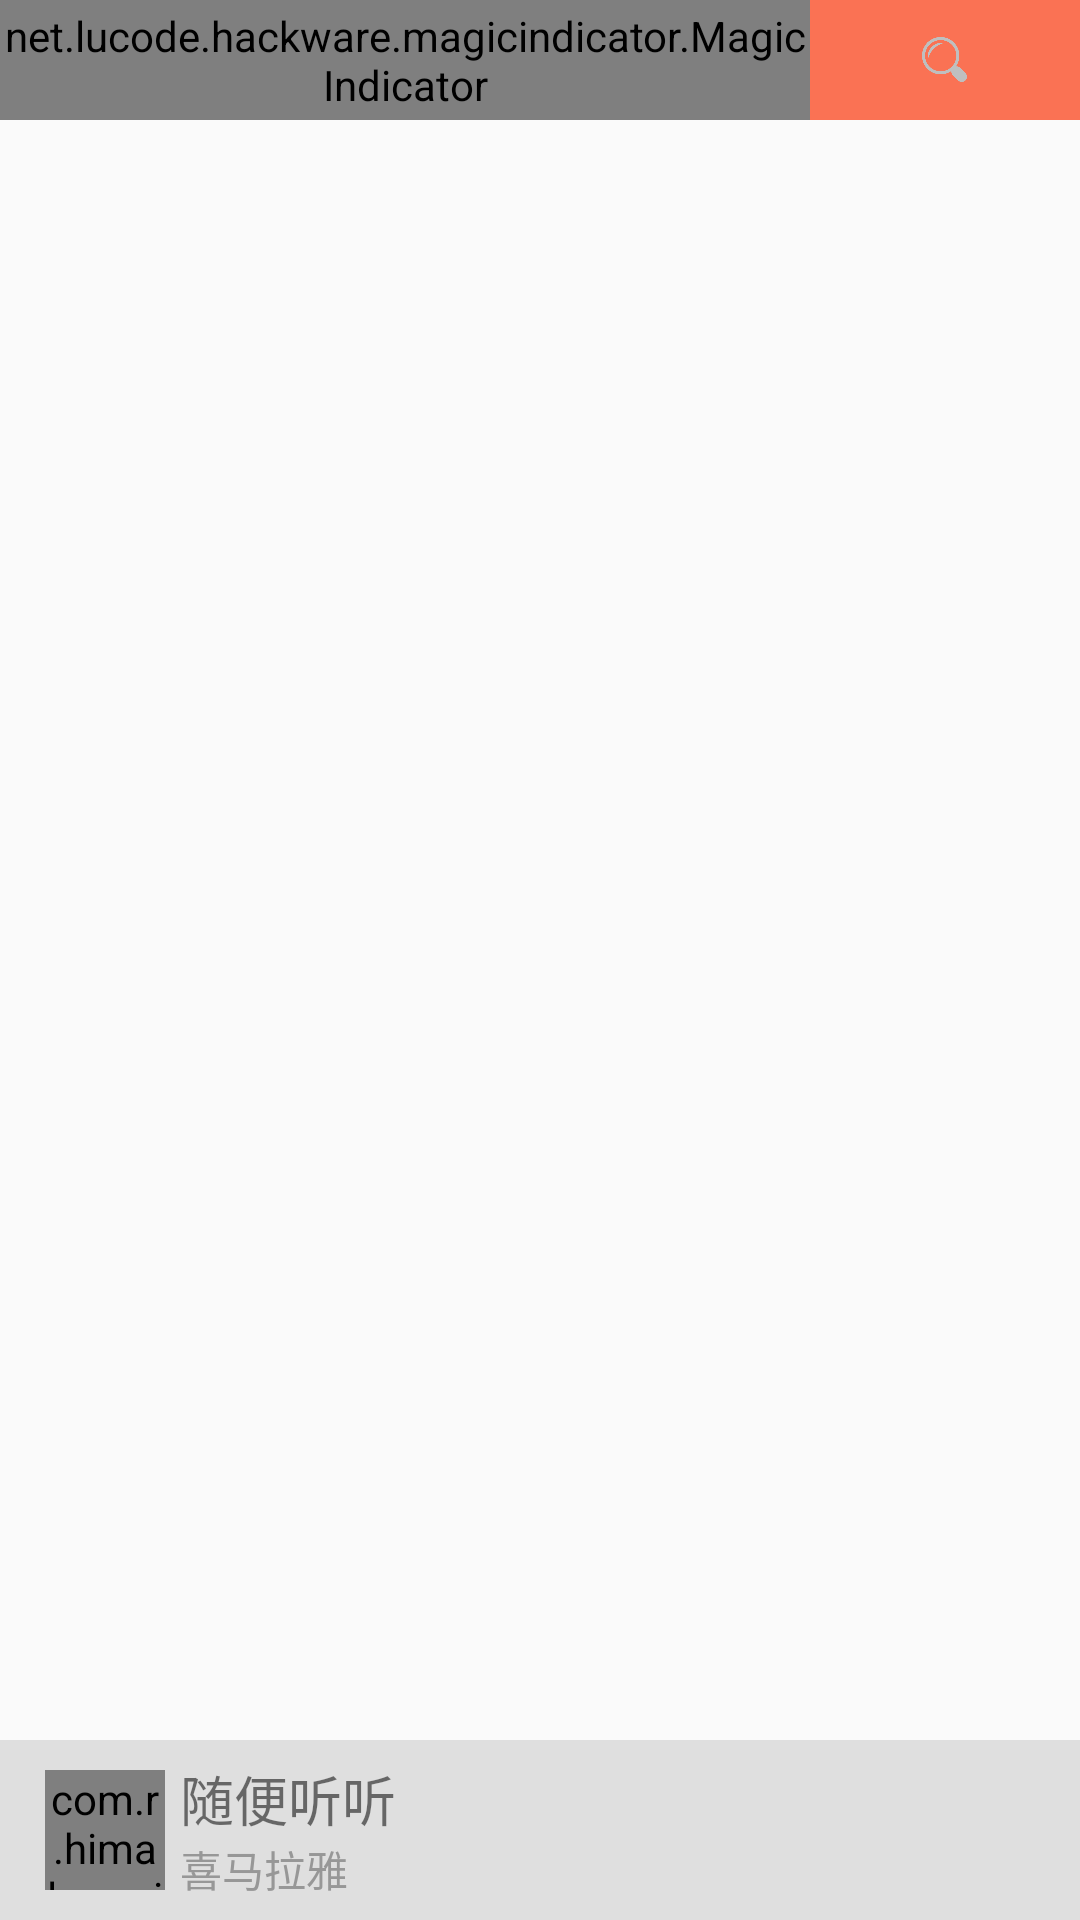

Icons on this 1080×1920 Android screen, each with its box as {"x1": x1, "y1": y1, "x2": x2, "y2": y2}:
search: {"x1": 922, "y1": 37, "x2": 967, "y2": 82}
